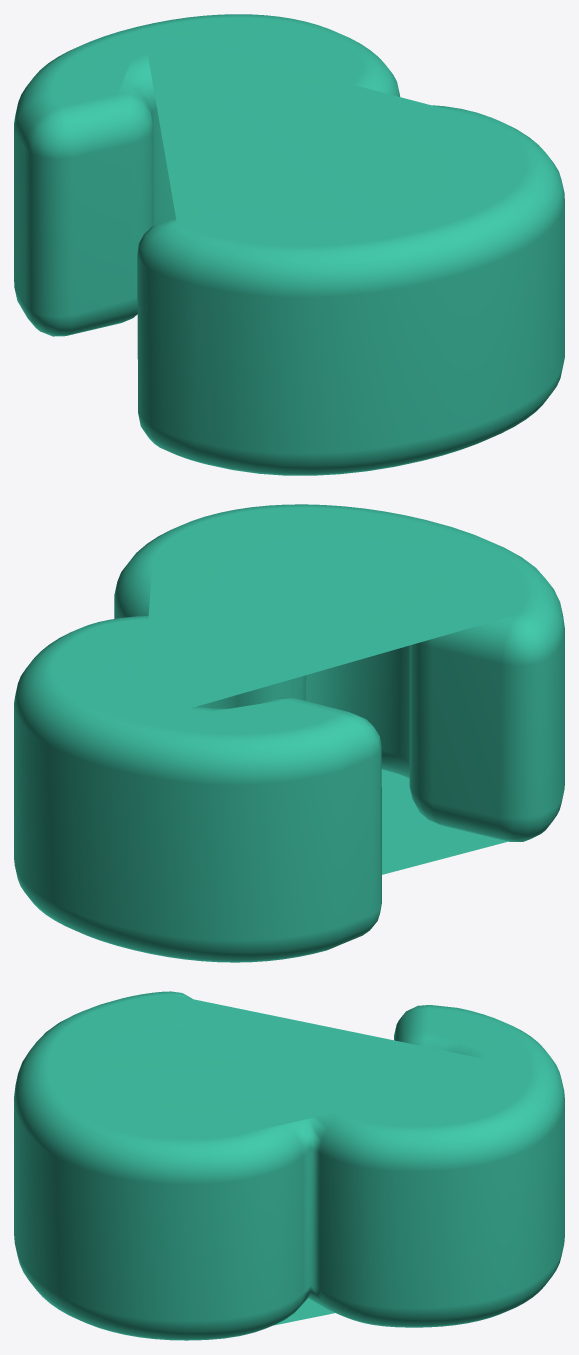
Rendered from Three.fbx.
3 renders of one model, top to bottom at view 1: azimuth 30°, elevation 25°; view 2: azimuth 150°, elevation 25°; view 3: azimuth 270°, elevation 25°, orthographic. The views are drawn at different scales.
Visible parts, largest first — view 1: polySurface3; view 2: polySurface3; view 3: polySurface3.
Boxes of the visible parts, <box> form: polySurface3: <box>14,14,564,475</box>; polySurface3: <box>14,504,564,962</box>; polySurface3: <box>14,991,564,1340</box>.
Bounding box in the file's own units: 0.4568 × 0.2429 × 0.6129.
1 material, 1 textured.
